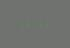five: (32, 20, 38, 27)
nine: (46, 19, 52, 27)
two: (18, 20, 24, 28), (25, 20, 31, 28), (39, 19, 45, 27)
